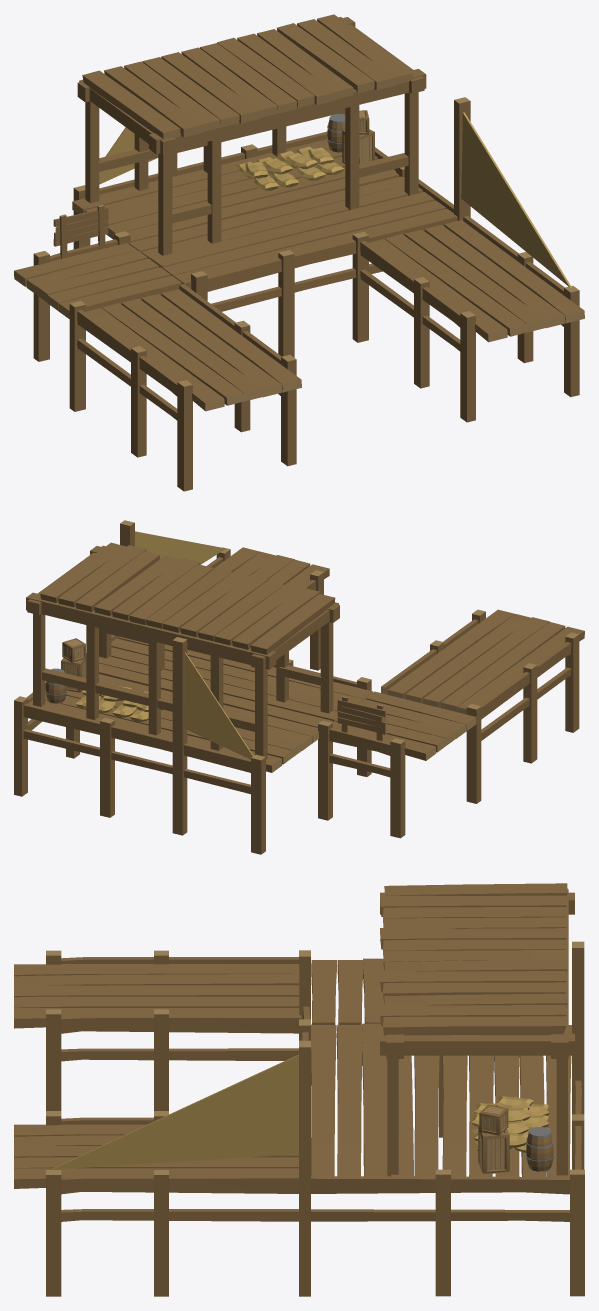
The model's file is Port_FirstAge_Level3.glb.
3 views of the same model, one above another, from view 1: azimuth 30°, elevation 25°; view 2: azimuth 150°, elevation 25°; view 3: azimuth 270°, elevation 25° (orthographic). The views are drawn at different scales.
Visible parts, largest first — view 1: Port_FirstAge_Level3; view 2: Port_FirstAge_Level3; view 3: Port_FirstAge_Level3.
Boxes of the visible parts, left/top/right/bottom form: Port_FirstAge_Level3: left=14, top=14, right=584, bottom=491; Port_FirstAge_Level3: left=14, top=520, right=584, bottom=854; Port_FirstAge_Level3: left=14, top=883, right=584, bottom=1296.
Bounding box in the file's own units: 1.84 × 0.9907 × 1.98.
